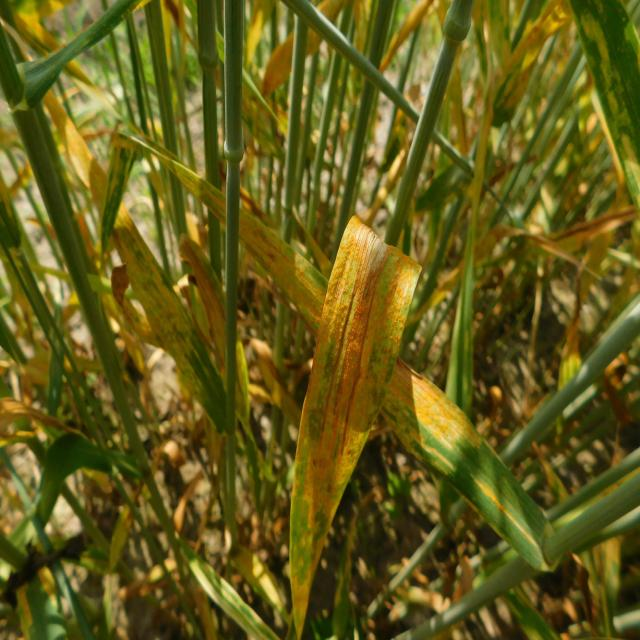wheat-yellowrust: (289, 215, 421, 619), (111, 199, 209, 406), (381, 359, 484, 474), (239, 211, 330, 333), (115, 130, 226, 227), (186, 560, 283, 640), (580, 11, 629, 132), (471, 479, 538, 546), (618, 137, 640, 190)
